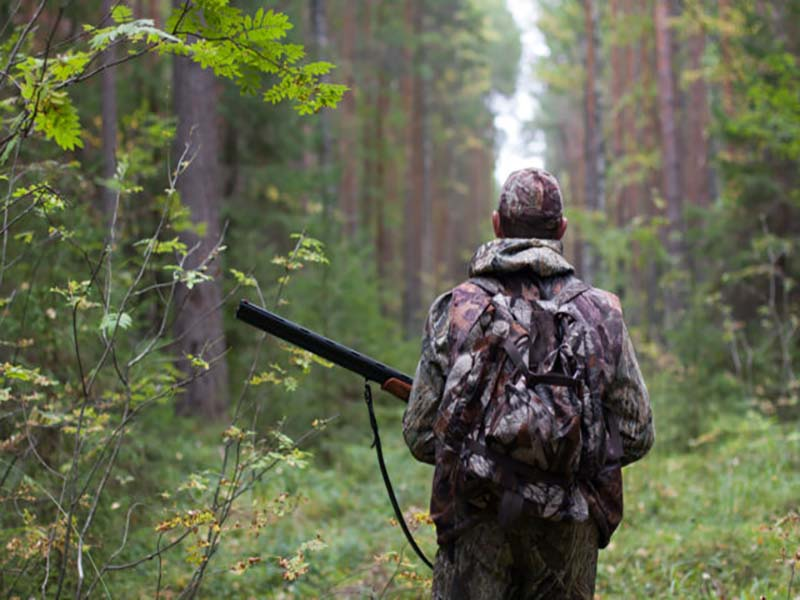cacciatore: (412, 145, 651, 600)
